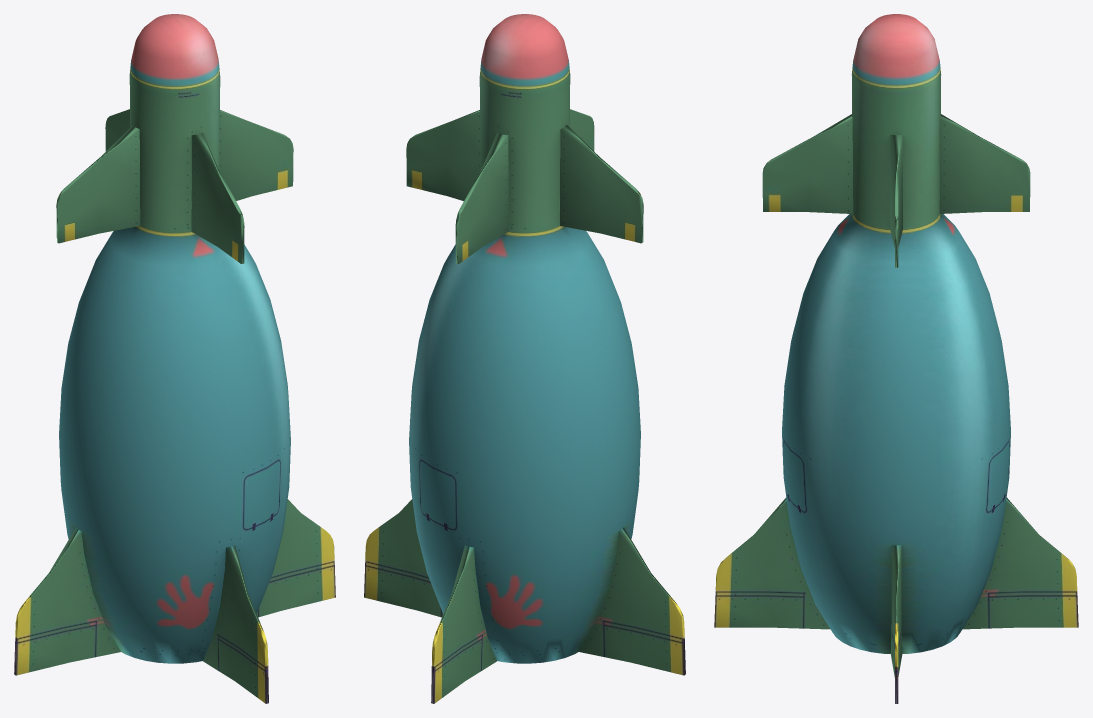
The model's file is Spanky_40fanim.FBX.
3 renders of one model, left to right at view 1: azimuth 30°, elevation 25°; view 2: azimuth 150°, elevation 25°; view 3: azimuth 270°, elevation 25°, orthographic.
Visible parts, largest first — view 1: Spanky; view 2: Spanky; view 3: Spanky.
Boxes of the visible parts, x1,y1,x2,y2 form: Spanky: [14, 14, 335, 703]; Spanky: [364, 14, 685, 703]; Spanky: [714, 14, 1078, 703].
Size of the model in its own units: 52.64 by 96.9 by 52.64.
1 material, 1 textured.
